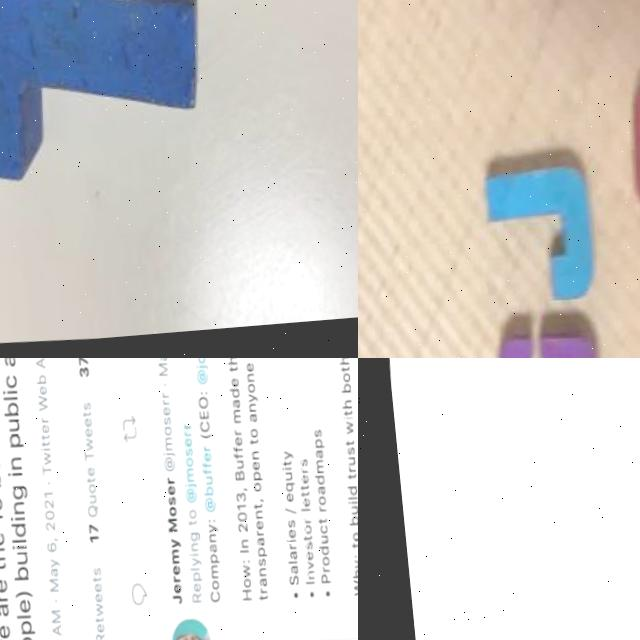2: (34, 544, 46, 556)
3: (76, 526, 87, 538), (69, 359, 80, 370)
A: (618, 79, 640, 236)
J: (475, 170, 587, 309)
T: (0, 0, 210, 182)
